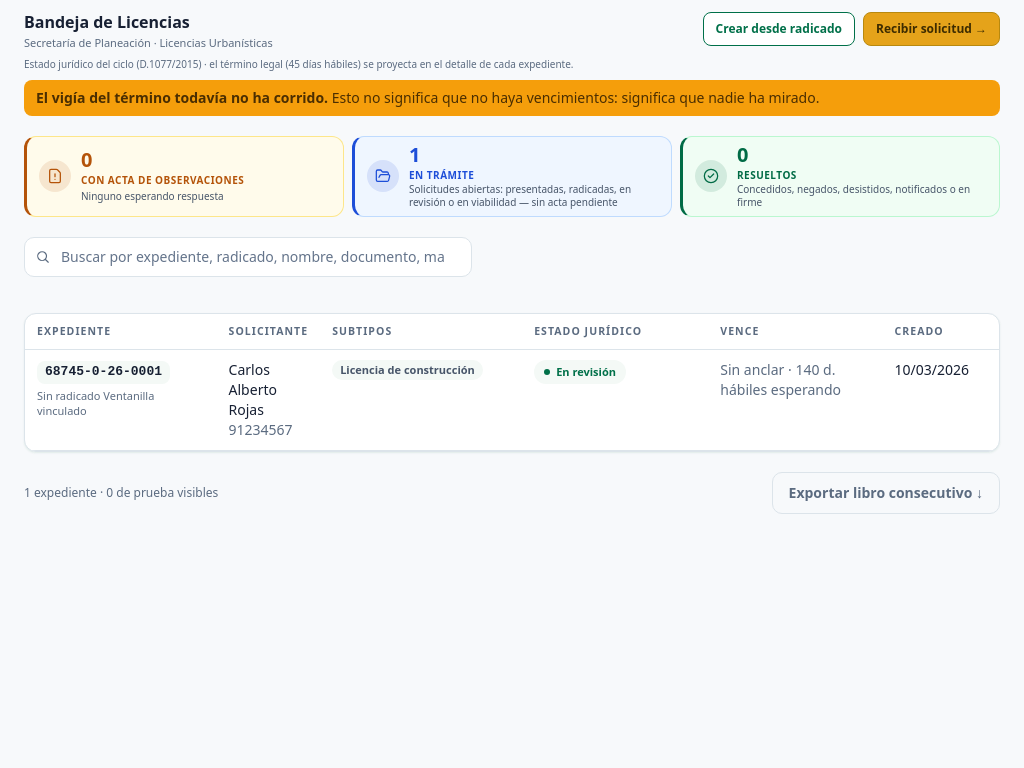
Scenario: BandejaLicenciasClient — buscador rápido › sin coincidencias: muestra el término buscado y un botón para limpiar (nunca una tabla vacía muda)
expect the text "68745-0-26-0001" is shown: met, box [37, 361, 170, 384]
Replace the text in the search field named "Buscar en la bandeja de licencias por expediente, radicado, solicitante, documento, matrícula inmobiliaria, tipo o estad" with "no-existe-este-termino": (248, 257) [24, 237, 472, 277]
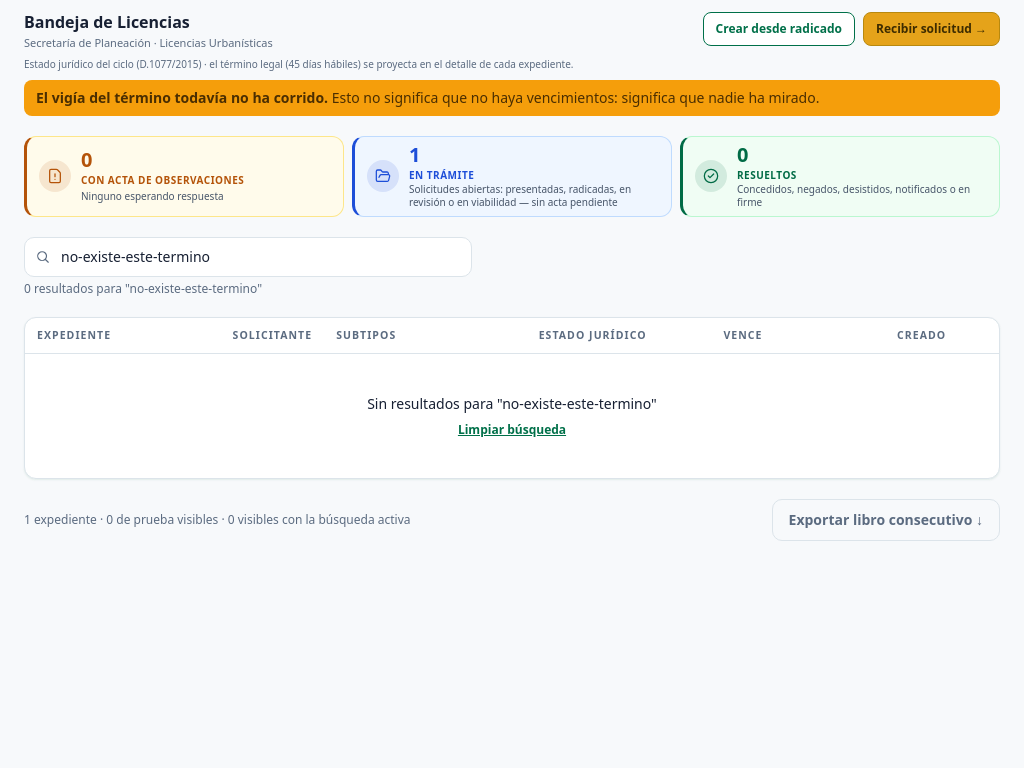
expect the text "Sin resultados para \"no-existe-este-termino\"" is shown: met, box [367, 394, 657, 414]
Click the button "Limpiar búsqueda": click(512, 430) [458, 422, 566, 438]
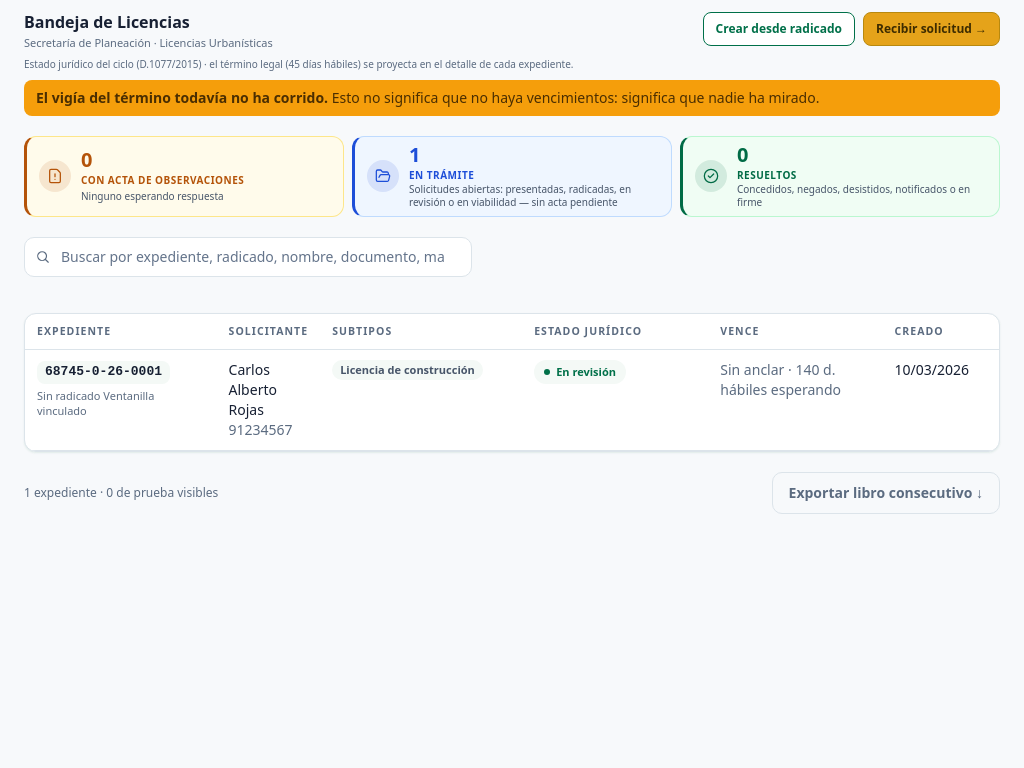
expect the text "68745-0-26-0001" is shown: met, box [37, 361, 170, 384]
